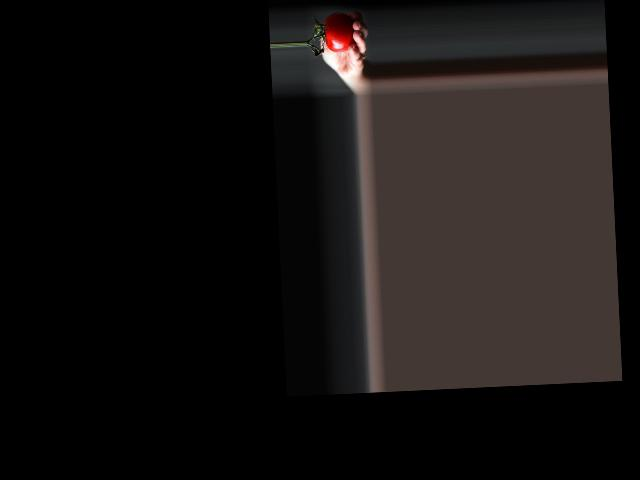tomato: (322, 11, 355, 53)
